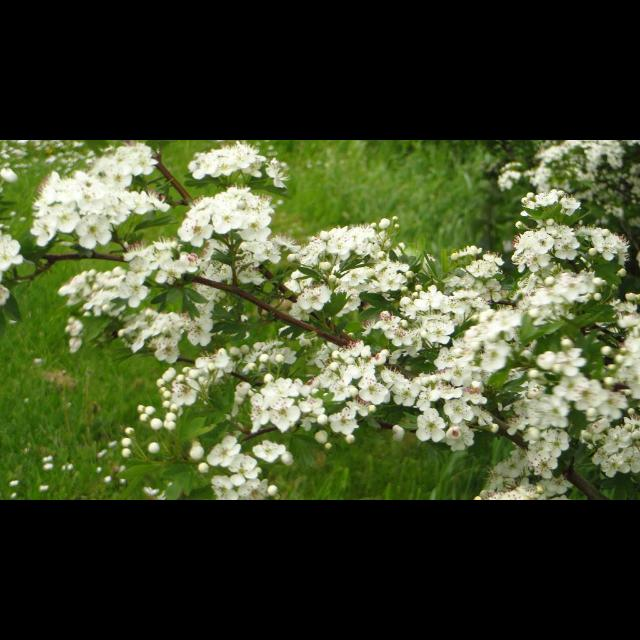Flower: (374, 310, 508, 450), (505, 345, 627, 477), (32, 142, 160, 244), (244, 340, 352, 442), (294, 221, 402, 319), (372, 291, 460, 359), (130, 307, 226, 358), (58, 266, 140, 324), (176, 187, 272, 233), (219, 435, 281, 499), (577, 413, 639, 477), (128, 239, 198, 287)
